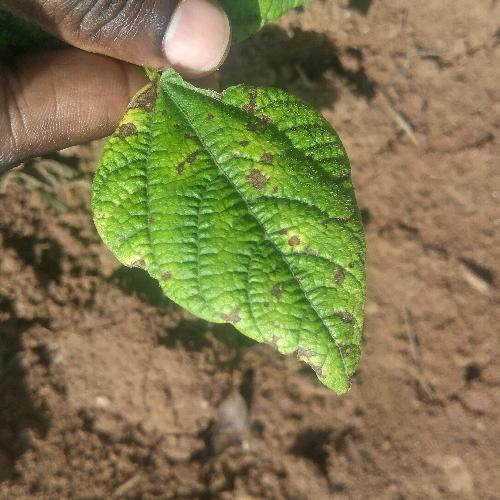mozaik: (79, 56, 394, 396)
